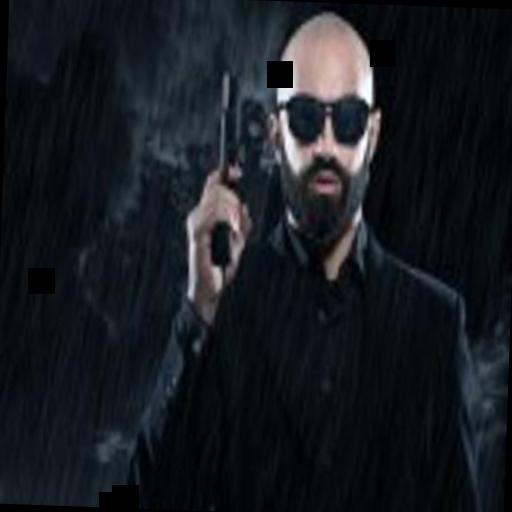Handgun: (209, 56, 237, 270)
